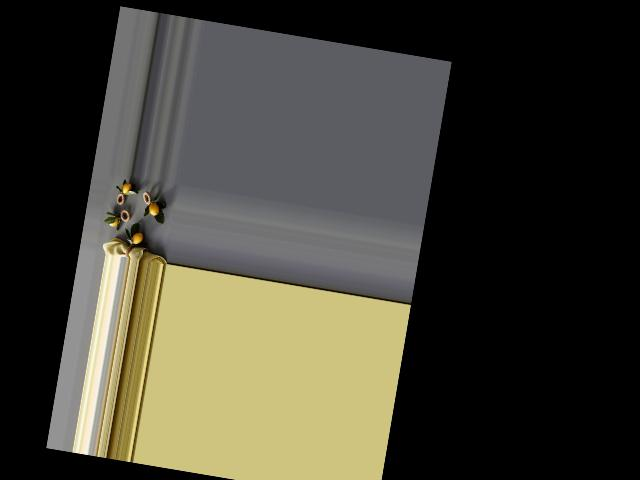lemon: (120, 178, 135, 197)
